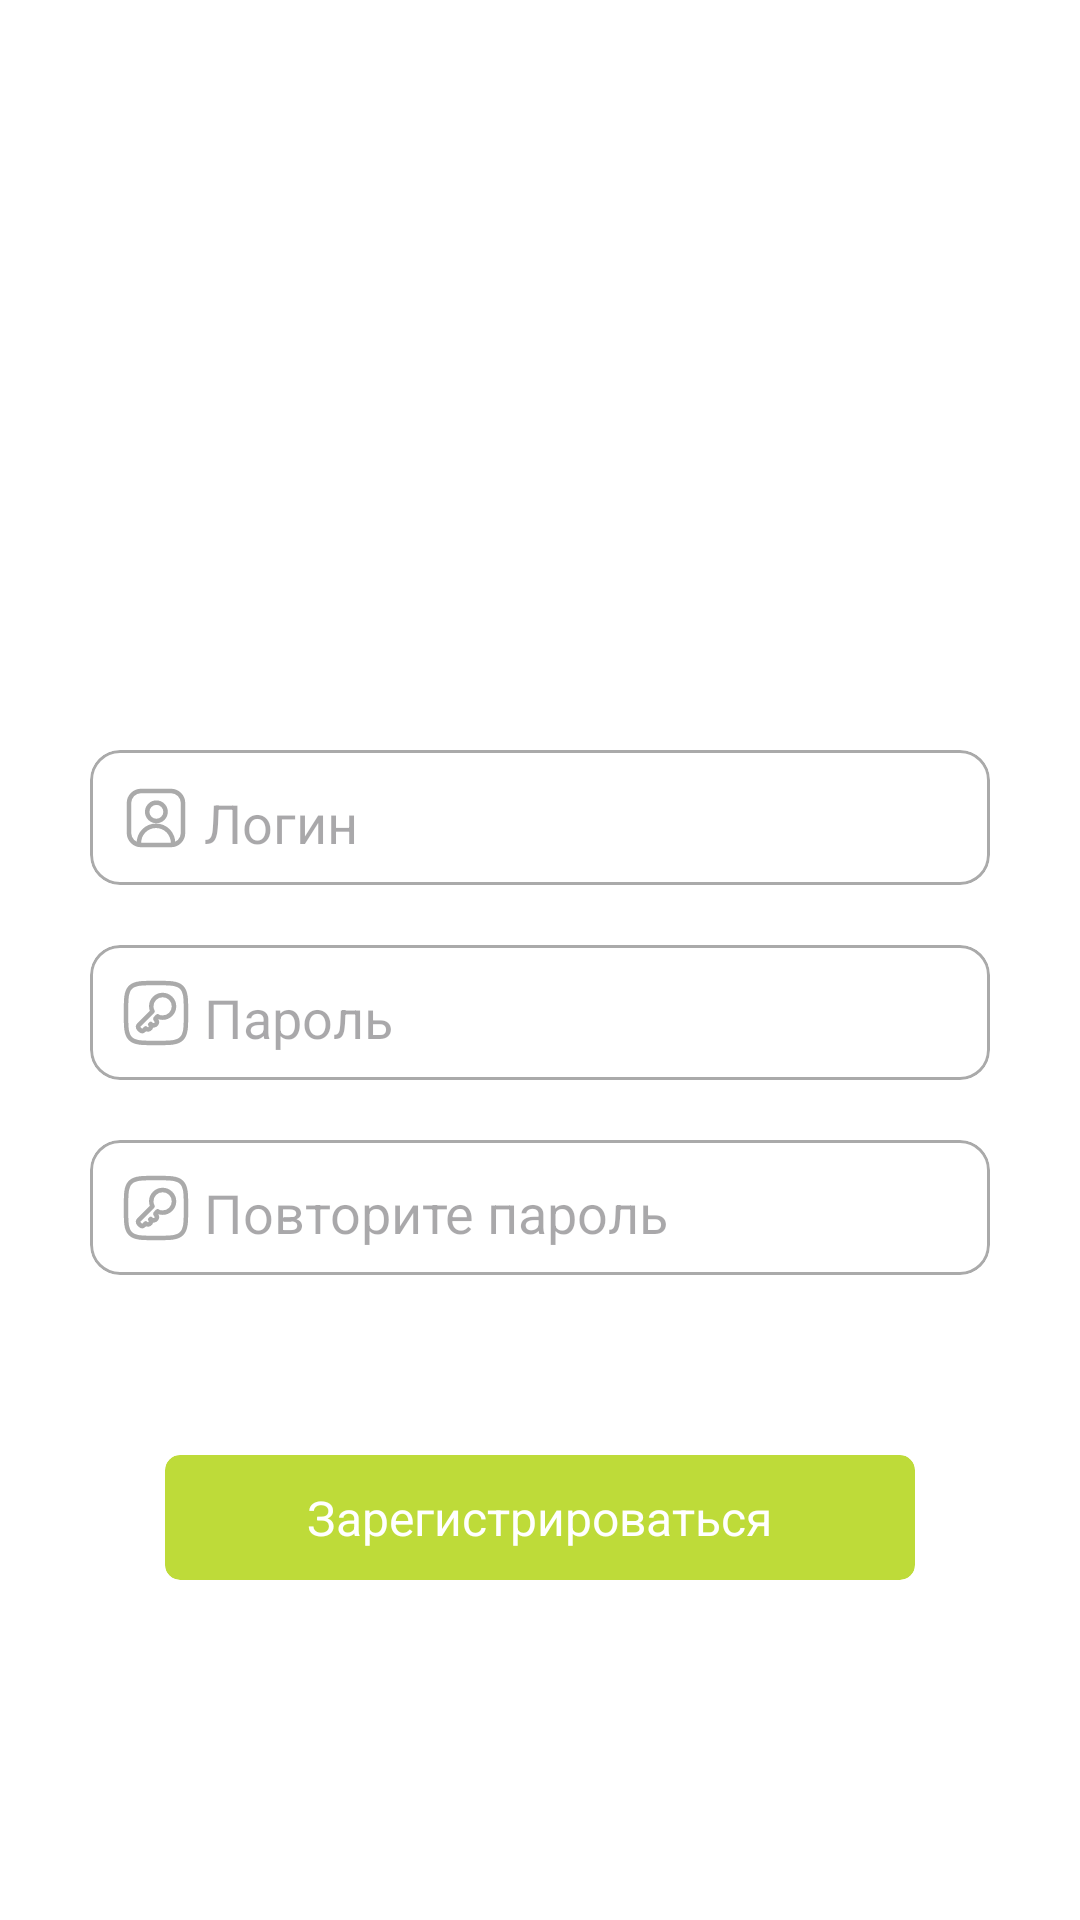

Screen size 1080px×1920px. Icon name, then its center in pixels as point (x, y):
key: point (156, 1013), point (156, 1208)
user: point (156, 818)
